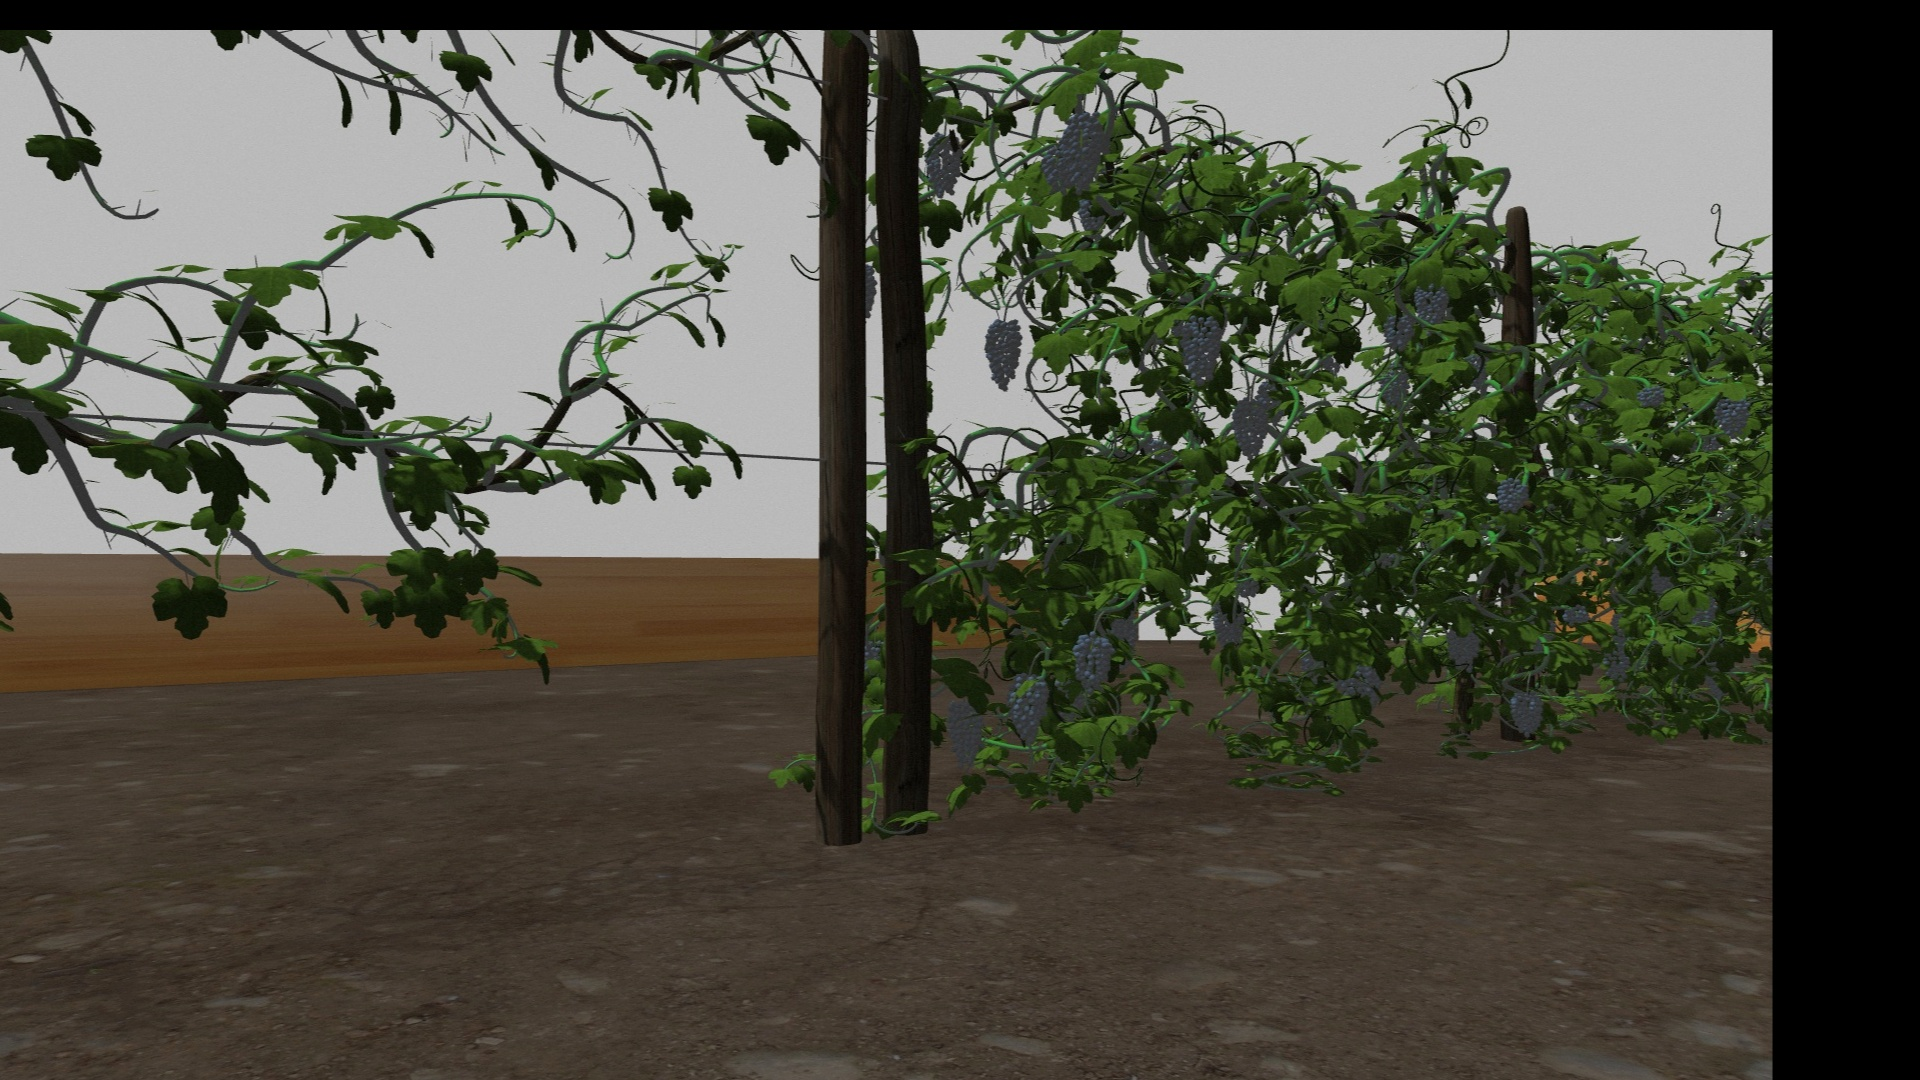grape: (1062, 113, 1105, 189), (1007, 674, 1050, 746), (945, 698, 984, 773), (985, 316, 1021, 394), (923, 132, 964, 199), (1182, 316, 1220, 386), (1073, 630, 1113, 696), (1230, 400, 1271, 459), (1443, 626, 1481, 676), (1342, 663, 1382, 705), (1510, 692, 1545, 737), (1212, 601, 1245, 647), (1415, 284, 1449, 327), (1713, 400, 1751, 436), (1040, 146, 1071, 191), (1382, 313, 1415, 353), (1381, 363, 1410, 407), (1495, 477, 1528, 514), (1077, 199, 1105, 233), (1602, 647, 1629, 680), (1636, 384, 1665, 407), (1563, 604, 1586, 628)
